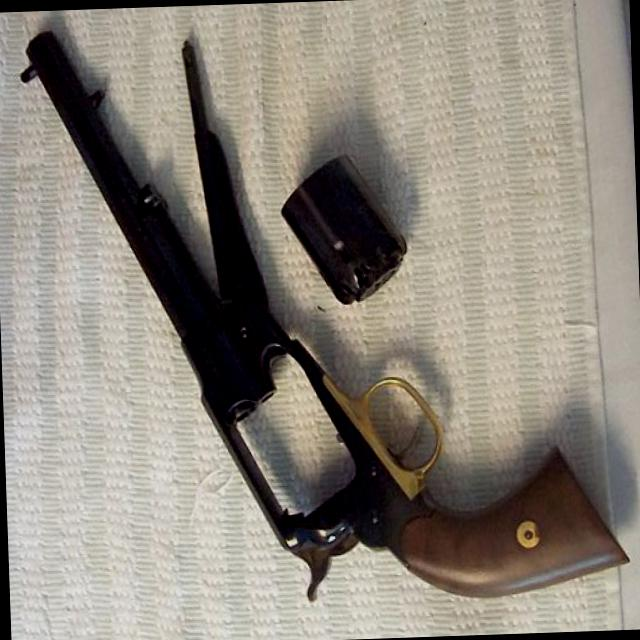handgun: (16, 10, 635, 631)
